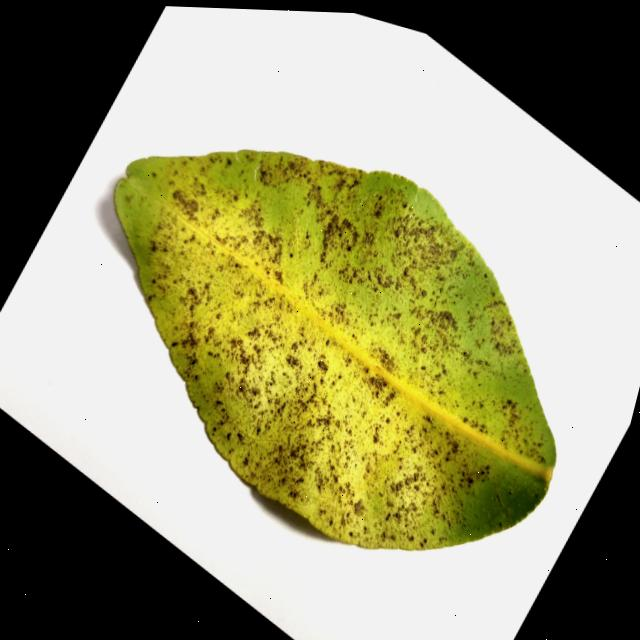melanose: (113, 149, 555, 549)
